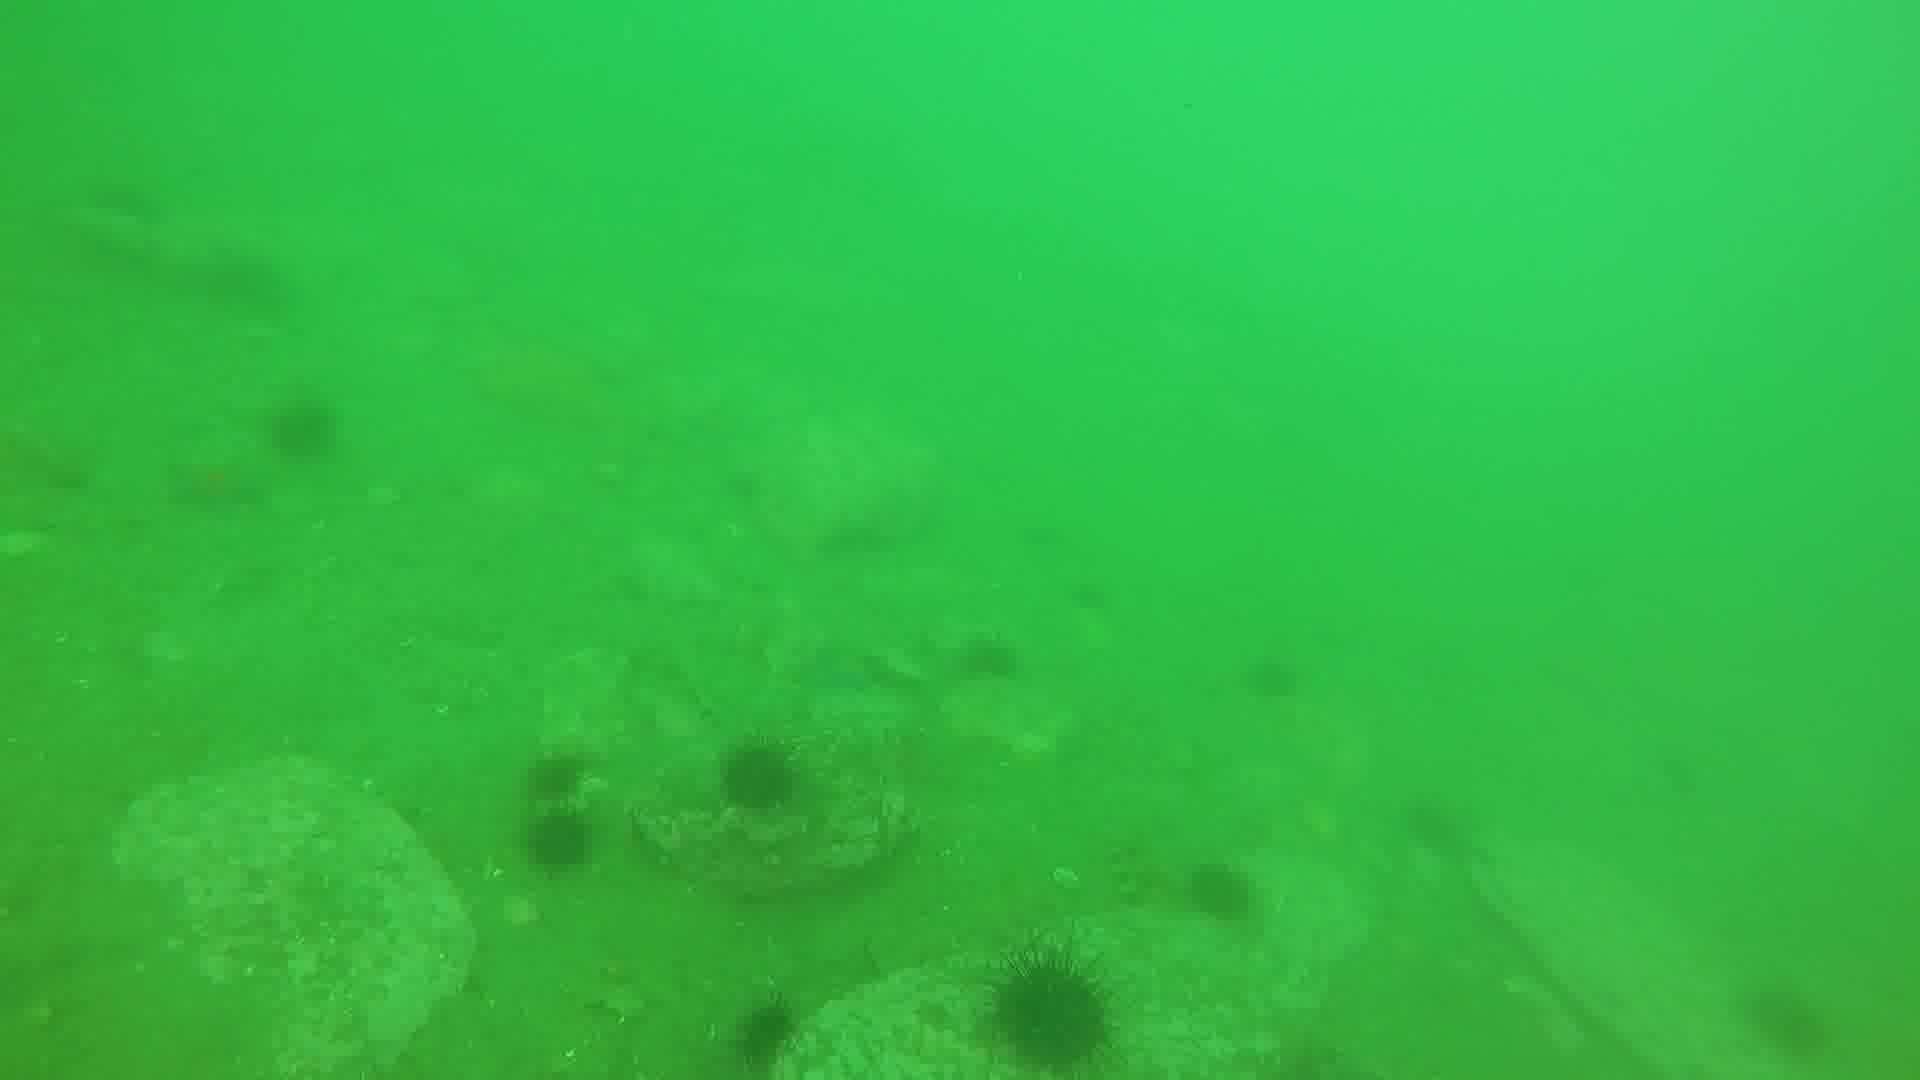echinus: (985, 947, 1116, 1065), (1751, 988, 1849, 1076), (1182, 855, 1269, 920), (717, 1004, 808, 1065), (709, 740, 785, 807), (269, 396, 330, 465), (529, 818, 597, 866), (1406, 800, 1460, 858), (964, 637, 1017, 684), (1242, 661, 1305, 699), (531, 754, 587, 796)
starfish: (169, 458, 272, 516)
